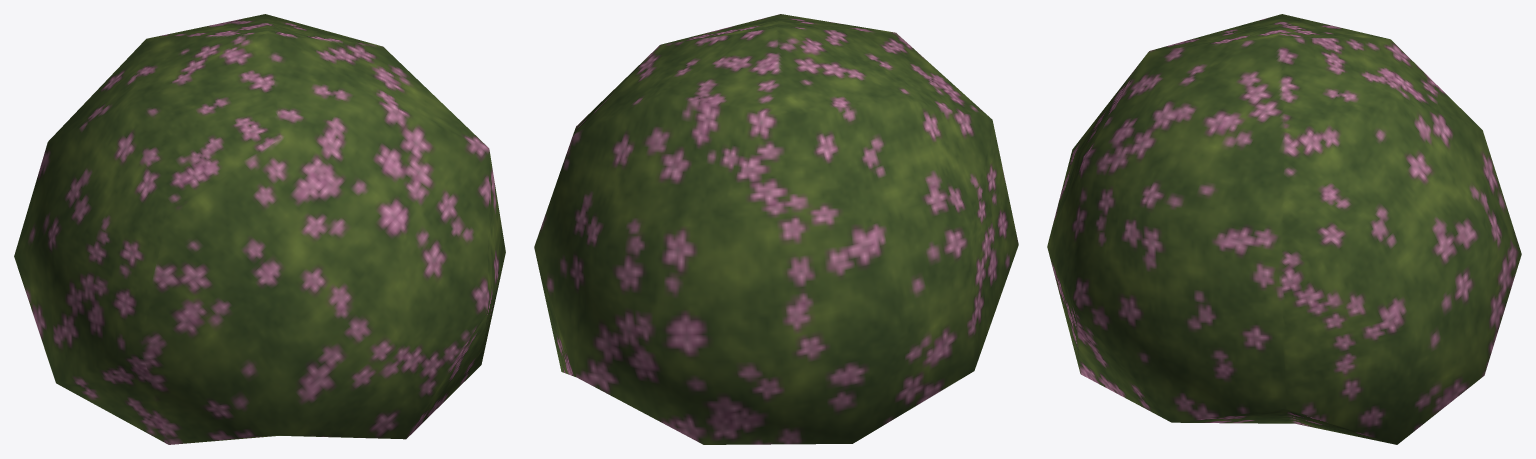
The model's file is VEG0410006.fbx.
The picture shows the model from 3 angles, left to right: view 1: azimuth 30°, elevation 25°; view 2: azimuth 150°, elevation 25°; view 3: azimuth 270°, elevation 25°; orthographic projection. The views are drawn at different scales.
Parts seen in each view (by area): view 1: smVEG0410006; view 2: smVEG0410006; view 3: smVEG0410006.
Boxes of the visible parts, <box> form: smVEG0410006: <box>14,14,505,444</box>; smVEG0410006: <box>534,14,1018,444</box>; smVEG0410006: <box>1047,14,1521,444</box>.
Size of the model in its own units: 129 by 104 by 134.
1 material, 1 textured.
